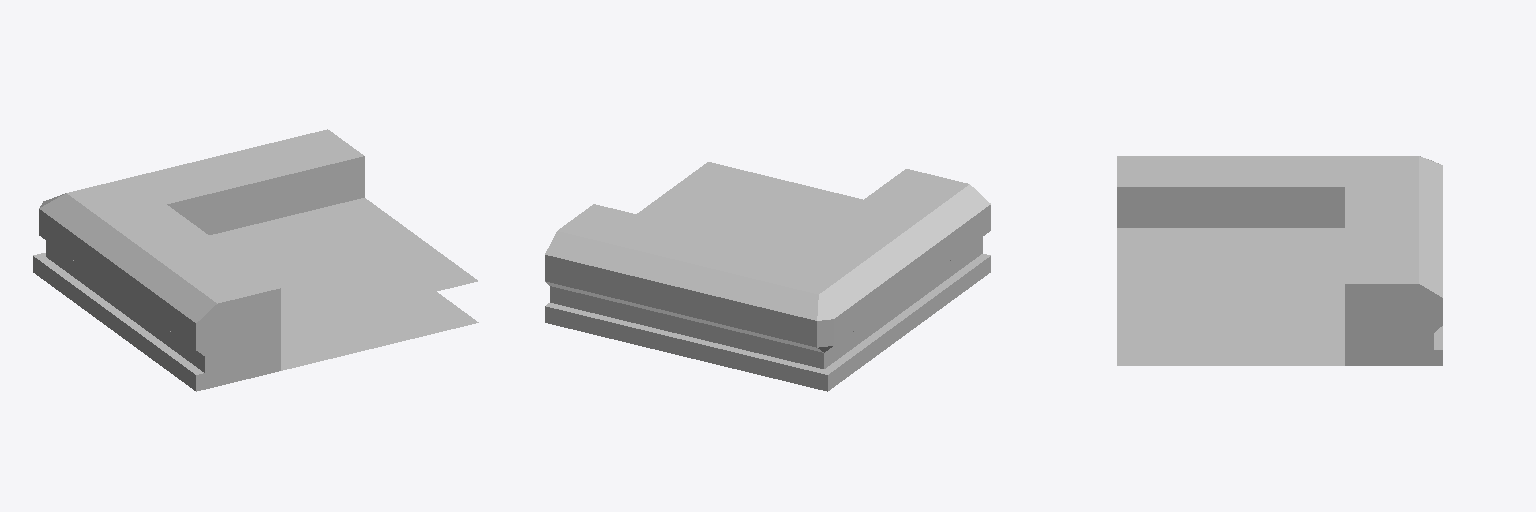
The model's file is fountain-corner.obj.
3 views of the same model, side by side, from view 1: azimuth 30°, elevation 25°; view 2: azimuth 150°, elevation 25°; view 3: azimuth 270°, elevation 25° (orthographic).
Parts seen in each view (by area): view 1: fountain-corner, (%ignore); view 2: fountain-corner, (%ignore); view 3: fountain-corner, (%ignore).
Boxes of the visible parts, <box> form: fountain-corner: <box>33,129,478,391</box>; (%ignore): <box>209,198,477,329</box>; fountain-corner: <box>545,169,990,391</box>; (%ignore): <box>637,162,862,251</box>; fountain-corner: <box>1117,156,1442,365</box>; (%ignore): <box>1117,228,1344,324</box>.
Size of the model in its own units: 1 by 0.28 by 1.